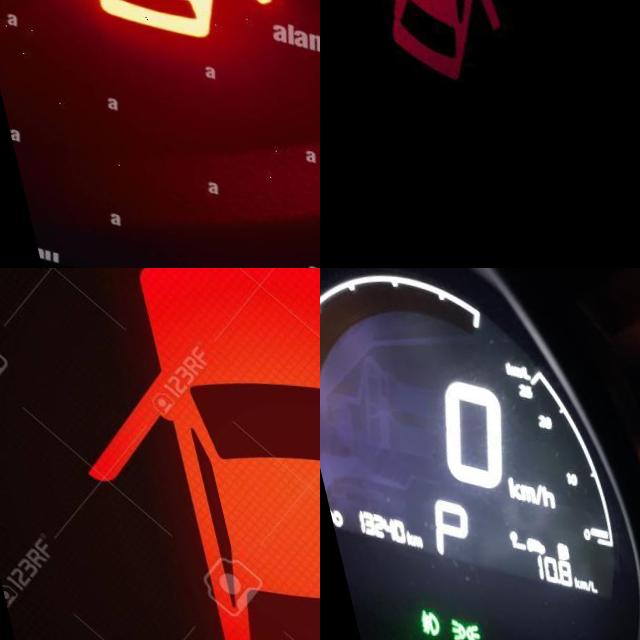FrontFogLight: (395, 607, 420, 635)
SideLamp: (424, 614, 459, 640)
